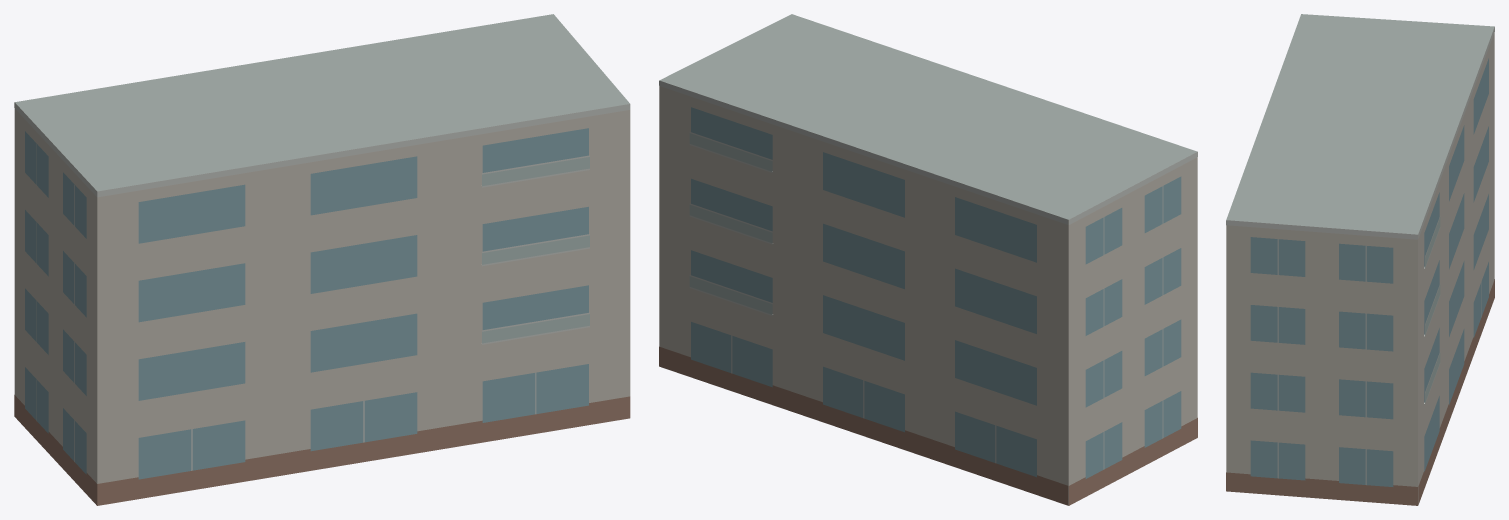
The model's file is survey-upis-32652548.glb.
3 views of the same model, side by side, from view 1: azimuth 30°, elevation 25°; view 2: azimuth 150°, elevation 25°; view 3: azimuth 270°, elevation 25° (orthographic). The views are drawn at different scales.
Visible parts, largest first — view 1: survey-upis-32652548.tmp; view 2: survey-upis-32652548.tmp; view 3: survey-upis-32652548.tmp.
Boxes of the visible parts, x1,y1,x2,y2 form: survey-upis-32652548.tmp: (14,14,630,505); survey-upis-32652548.tmp: (659,14,1197,505); survey-upis-32652548.tmp: (1226,14,1494,505).
Bounding box in the file's own units: 22.6 × 12.95 × 11.64.
